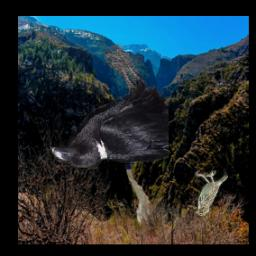Crow: (51, 43, 169, 168)
Sparrow: (196, 171, 229, 217)
